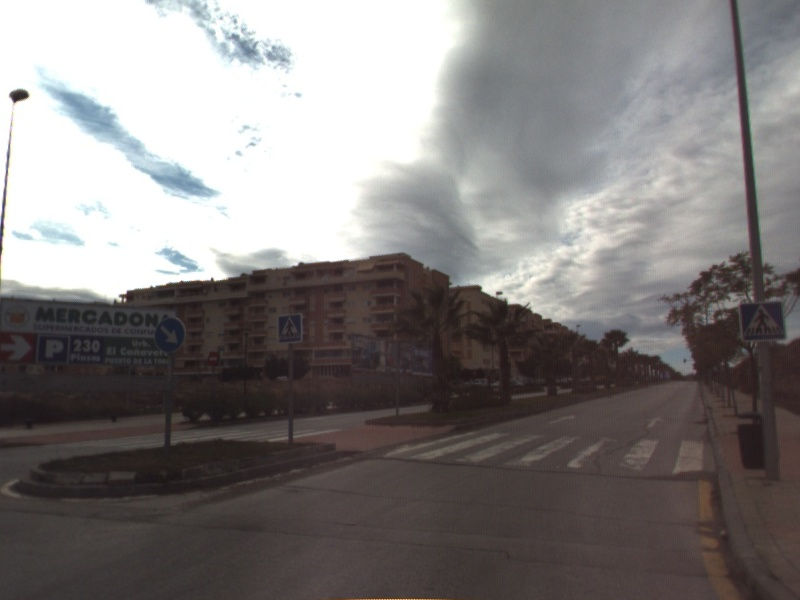STRAIGHT: (546, 412, 577, 426), (644, 414, 667, 429)
